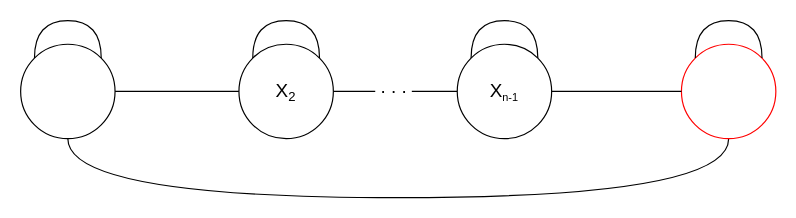
Some shapes in this 796 by 218 pixel diagram are drawn without their labels. The centre of each missing label's shape, as x and y in pixels:
"X 1" belongs at (67,91).
"X n" belongs at (728,91).
